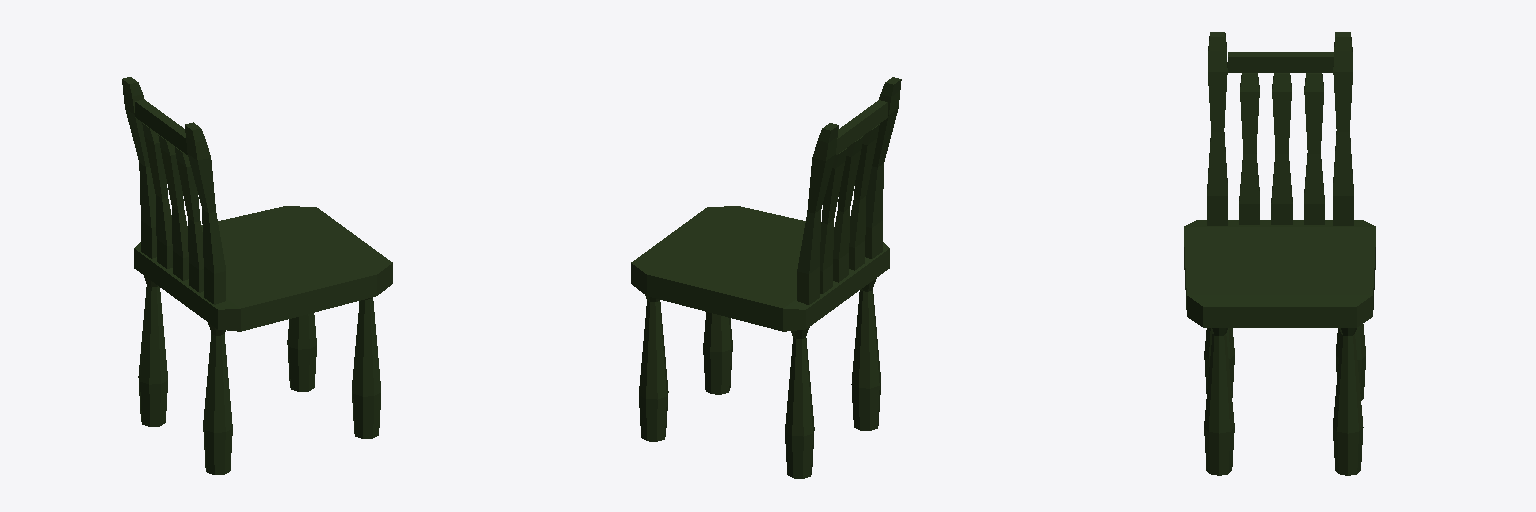
Rendered from ChairSubstance.obj.
The picture shows the model from 3 angles: view 1: azimuth 30°, elevation 25°; view 2: azimuth 150°, elevation 25°; view 3: azimuth 270°, elevation 25°; orthographic projection.
Parts seen in each view (by area): view 1: pCube1, pCube1 Leg1 Leg2 Leg3 Leg4, pCube1 pCube10 pCube17 pCube18, pCube1 pCube15 pCube19, pCube1 pCube14; view 2: pCube1, pCube1 Leg1 Leg2 Leg3 Leg4, pCube1 pCube15 pCube19, pCube1 pCube10 pCube17 pCube18, pCube1 pCube14; view 3: pCube1, pCube1 Leg1 Leg2 Leg3 Leg4, pCube1 pCube10 pCube17 pCube18, pCube1 pCube15 pCube19, pCube1 pCube14.
Boxes of the visible parts, x1=… form: pCube1: x1=134, y1=206, x2=392, y2=331; pCube1 Leg1 Leg2 Leg3 Leg4: x1=138, y1=276, x2=380, y2=474; pCube1 pCube10 pCube17 pCube18: x1=142, y1=123, x2=203, y2=292; pCube1 pCube15 pCube19: x1=122, y1=77, x2=225, y2=304; pCube1 pCube14: x1=135, y1=99, x2=187, y2=154; pCube1: x1=631, y1=206, x2=889, y2=331; pCube1 Leg1 Leg2 Leg3 Leg4: x1=639, y1=278, x2=880, y2=478; pCube1 pCube15 pCube19: x1=797, y1=77, x2=901, y2=304; pCube1 pCube10 pCube17 pCube18: x1=820, y1=124, x2=879, y2=293; pCube1 pCube14: x1=836, y1=100, x2=887, y2=154; pCube1: x1=1184, y1=220, x2=1375, y2=327; pCube1 Leg1 Leg2 Leg3 Leg4: x1=1204, y1=324, x2=1365, y2=475; pCube1 pCube10 pCube17 pCube18: x1=1239, y1=73, x2=1324, y2=224; pCube1 pCube15 pCube19: x1=1207, y1=32, x2=1353, y2=225; pCube1 pCube14: x1=1228, y1=52, x2=1333, y2=72.
Bounding box in the file's own units: 7.08 × 12.02 × 6.